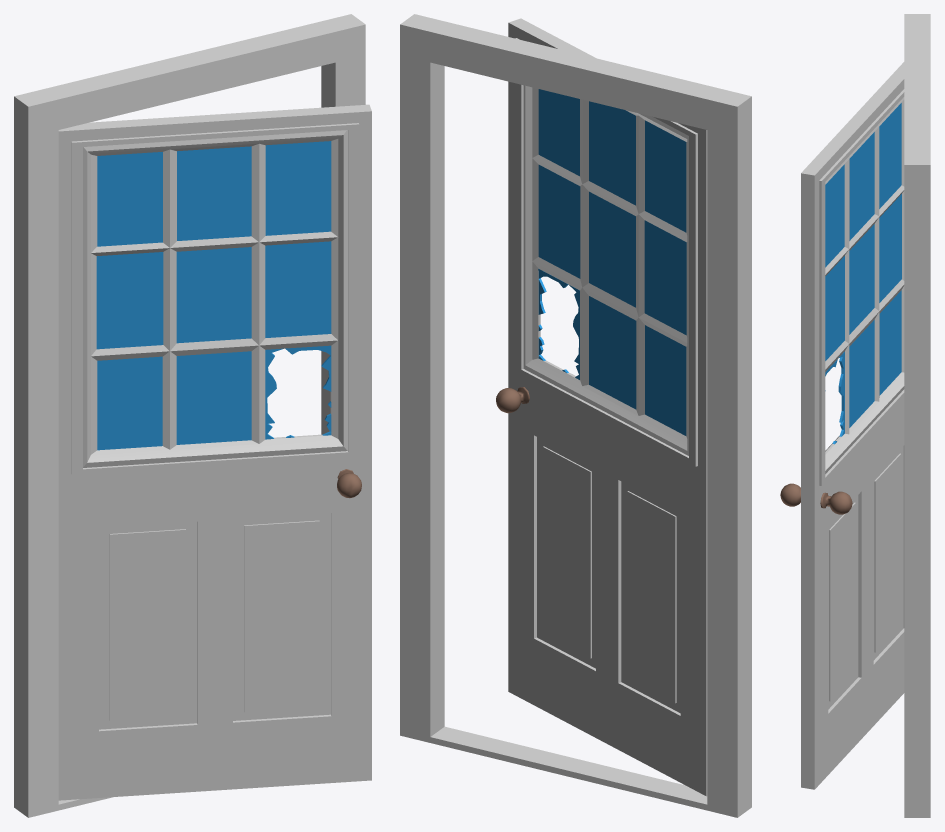
Rendered from open-the-door.gltf.
The picture shows the model from 3 angles, left to right: view 1: azimuth 30°, elevation 25°; view 2: azimuth 150°, elevation 25°; view 3: azimuth 270°, elevation 25°; orthographic projection. The views are drawn at different scales.
Visible parts, largest first — view 1: Cube002, Cube002_1, frame; view 2: Cube002, frame, Cube002_1, Cube002_2; view 3: Cube002, frame, Cube002_1, Cube002_2.
Part boxes in pixels (x1=…): Cube002: x1=58, y1=104, x2=371, y2=800; Cube002_1: x1=96, y1=141, x2=331, y2=450; frame: x1=14, y1=14, x2=365, y2=817; Cube002: x1=508, y1=18, x2=707, y2=796; frame: x1=400, y1=14, x2=751, y2=817; Cube002_1: x1=538, y1=89, x2=686, y2=435; Cube002_2: x1=496, y1=387, x2=529, y2=413; Cube002: x1=801, y1=62, x2=904, y2=789; frame: x1=904, y1=14, x2=930, y2=817; Cube002_1: x1=825, y1=103, x2=901, y2=444; Cube002_2: x1=780, y1=483, x2=852, y2=514.
Bounding box in the file's own units: 1.2 × 2.42 × 0.5044.
